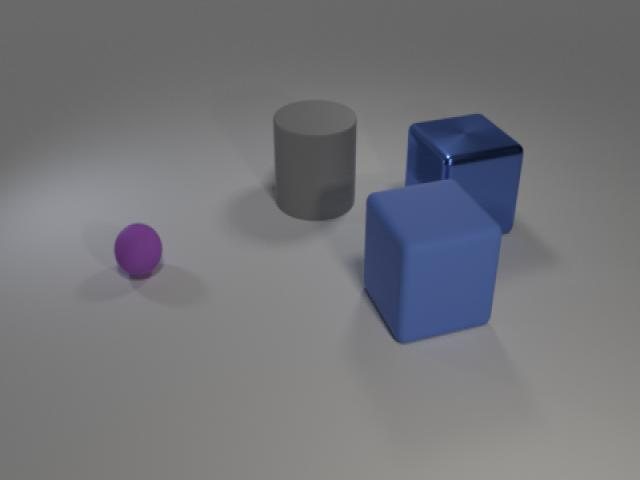cylinder: (264, 94, 362, 225)
round ball: (108, 218, 166, 283)
